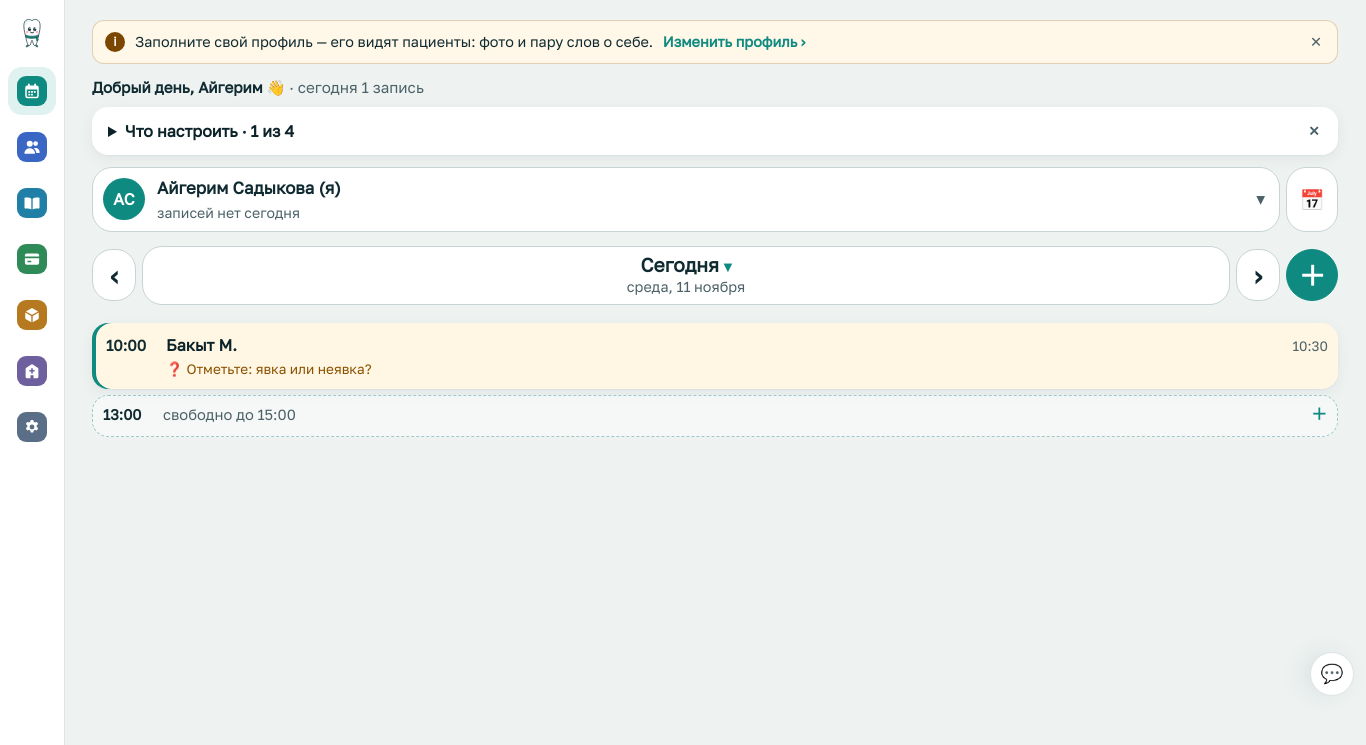
it: телефон, «Все врачи» — список: приёмы обоих врачей и свободные окна с именем врача
Expected: the button with aria-label "10:00–10:30, Бакыт М." is shown, [92,323,1338,389]
Click the button with aria-label "Чьё расписание: Айгерим Садыкова": [124, 199] box [92,167,1280,232]
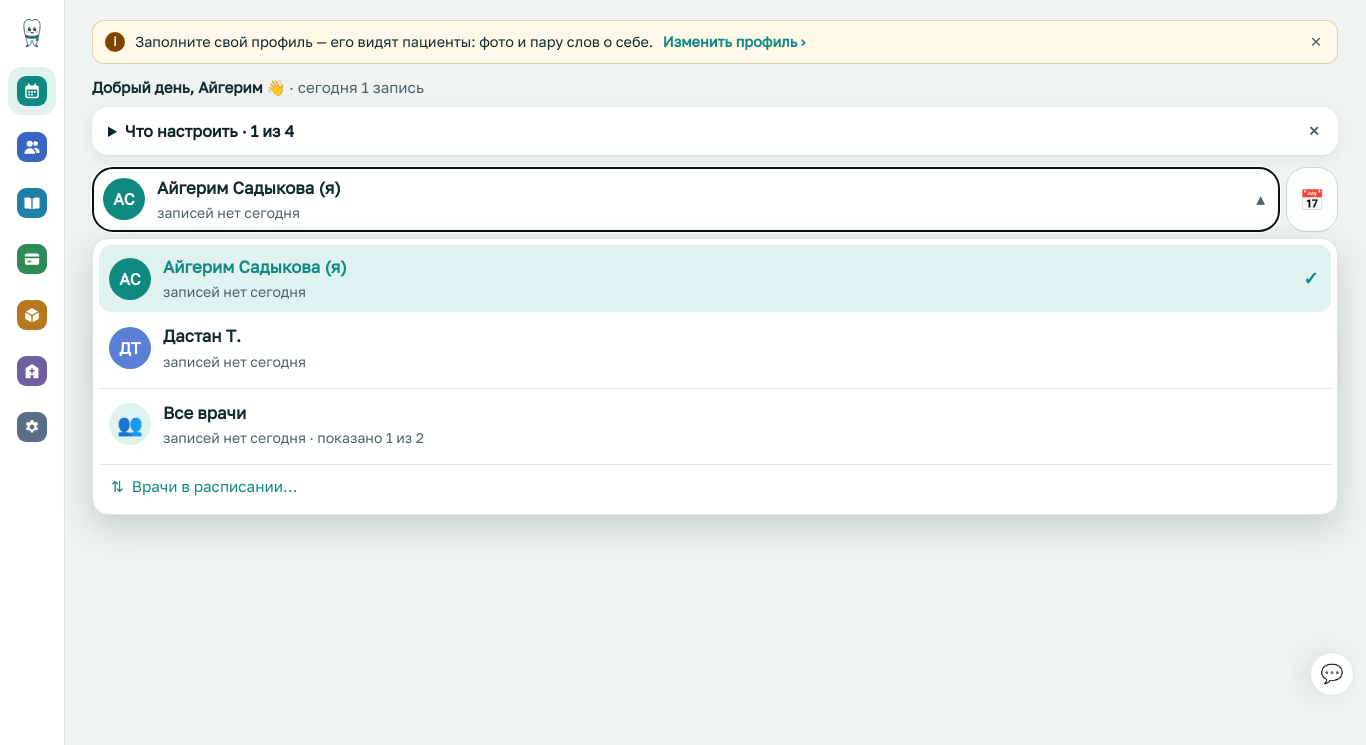
Click the option "👥 Все врачи записей нет сегодня · показано 1 из 2": [130, 424] box [99,388,1331,458]
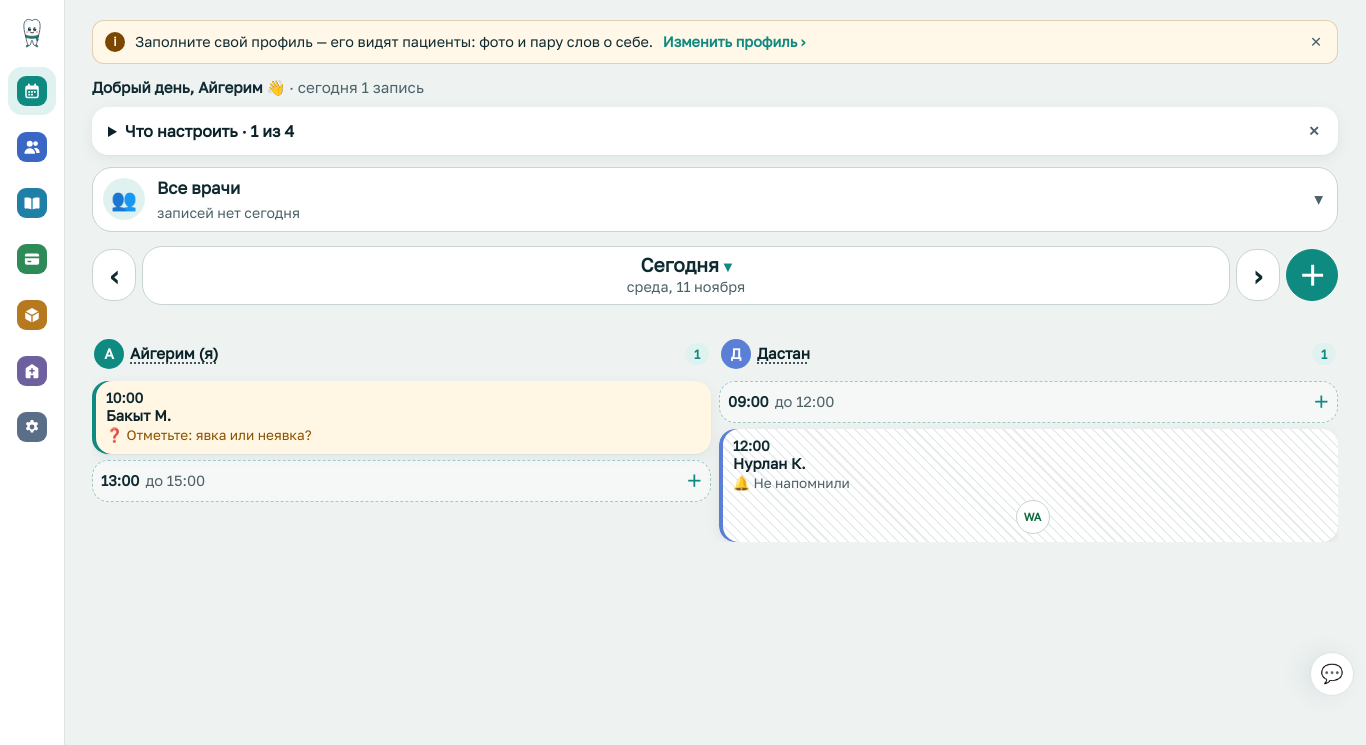
Expected: the number of buttons named "Предыдущий день" is 1, [92,249,136,301]
Expected: the button with aria-label "12:00–12:30, Нурлан К." is shown, [719,429,1338,502]
Expected: the option "Дастан Т." is gone
Click the button with aria-label "выбрать день": [686, 275] box [142,246,1230,305]
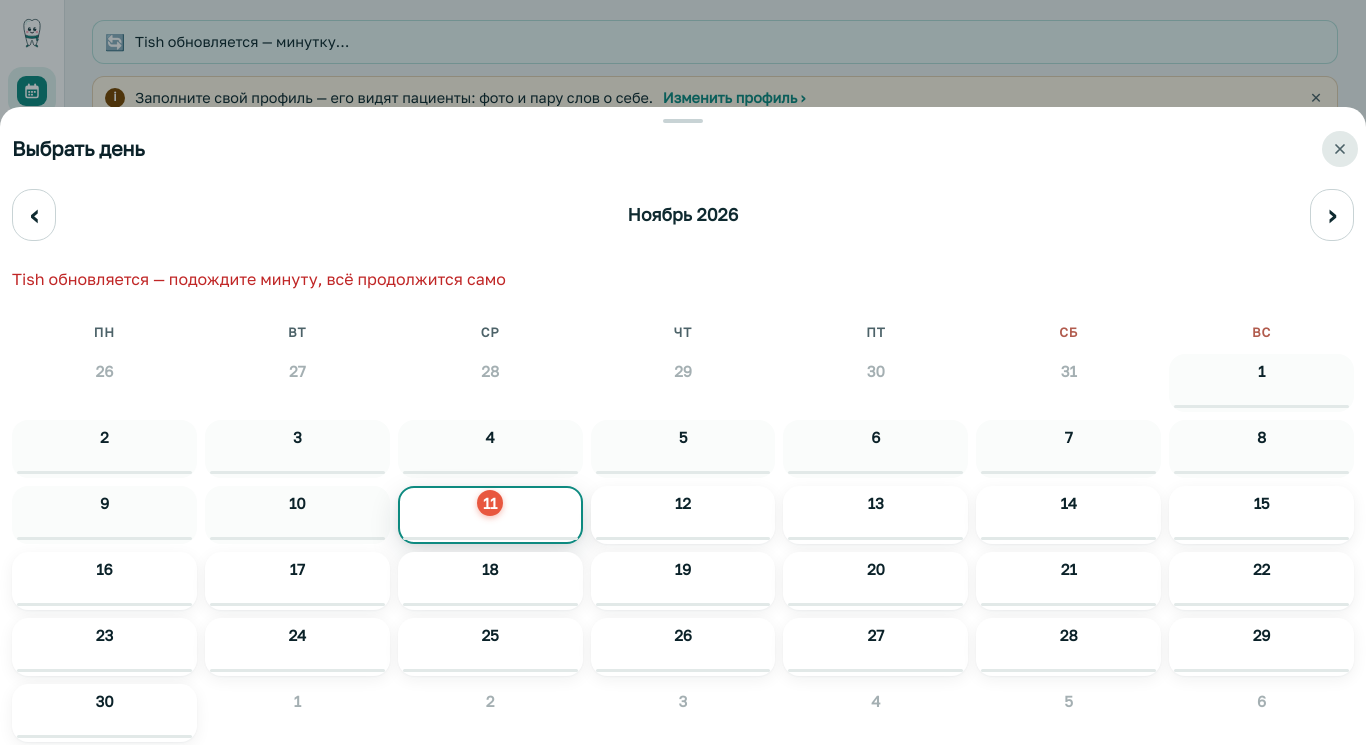
Expected: the element with class "compact" is shown
Click the button named "Закрыть": [1340, 149] box [1322,131,1358,167]
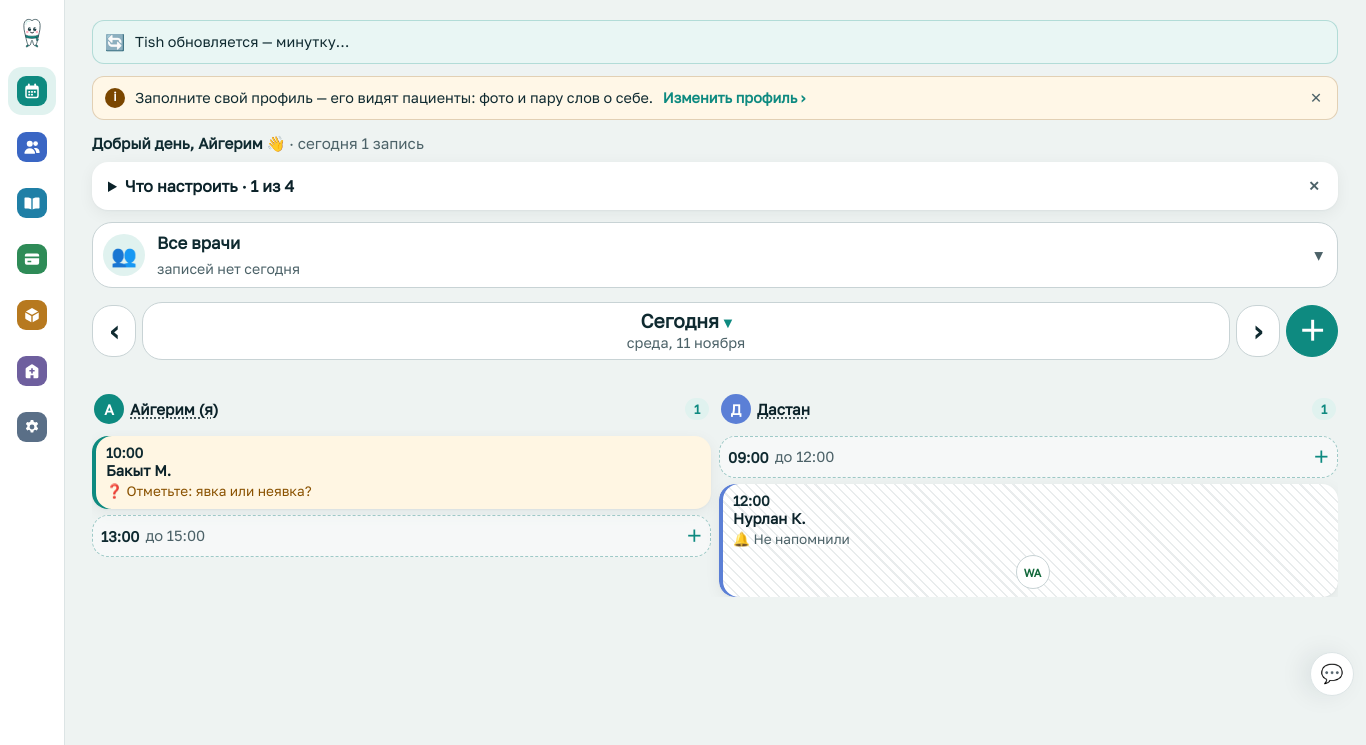
Expected: the button with aria-label "12:00–12:30, Нурлан К." is shown, [719,484,1338,557]
Expected: the button with aria-label "10:00–10:30, Бакыт М." is shown, [92,436,711,509]
Expected: the heading "Выбрать день" is gone
Click the button with aria-label "Свободно с 09:00 до 12:00 у врача Дастан": [748, 457] box [720,437,1337,477]
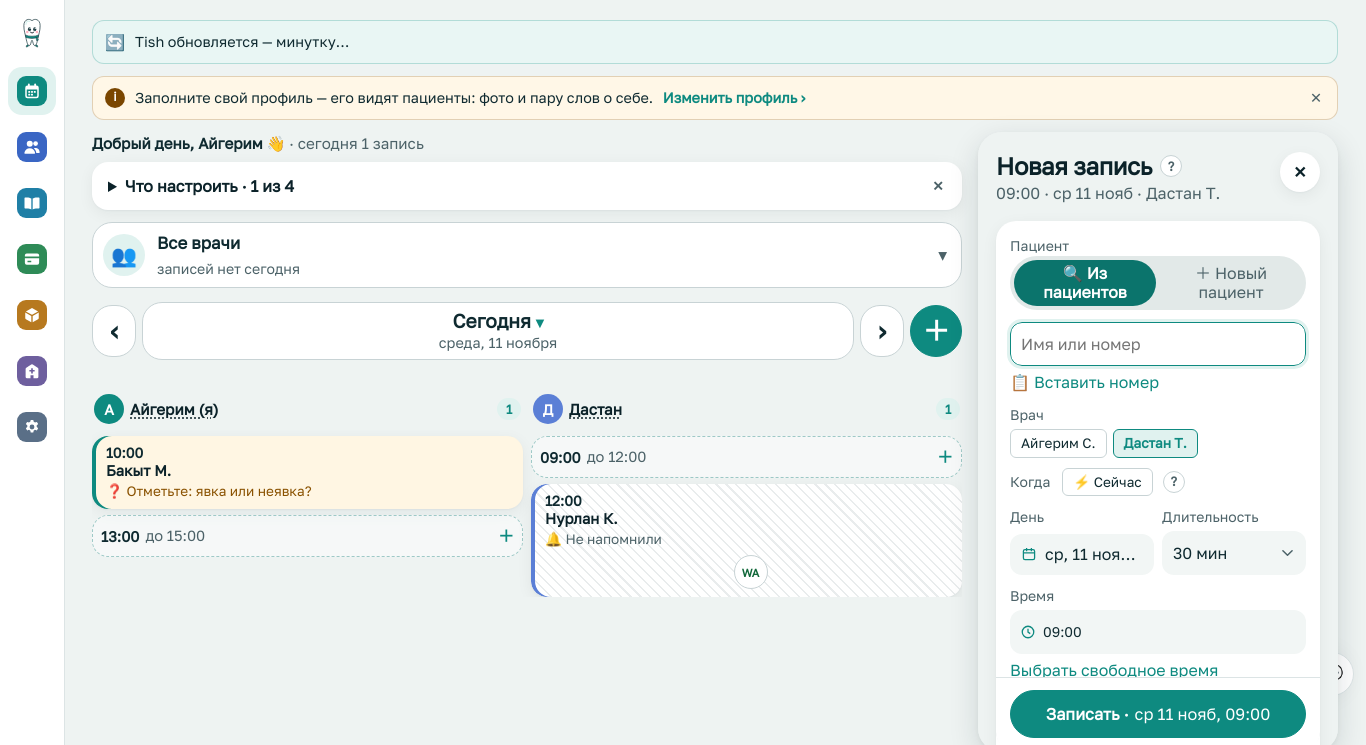
Expected: the button "Дастан Т." is shown, [1113,429,1198,457]
